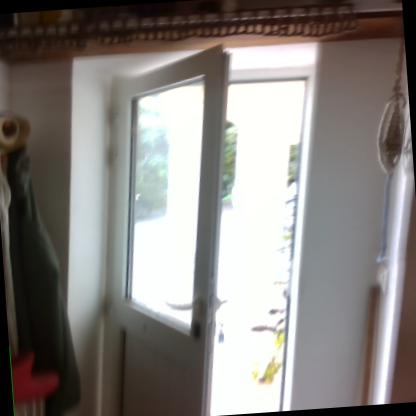semi: (83, 32, 352, 415)
